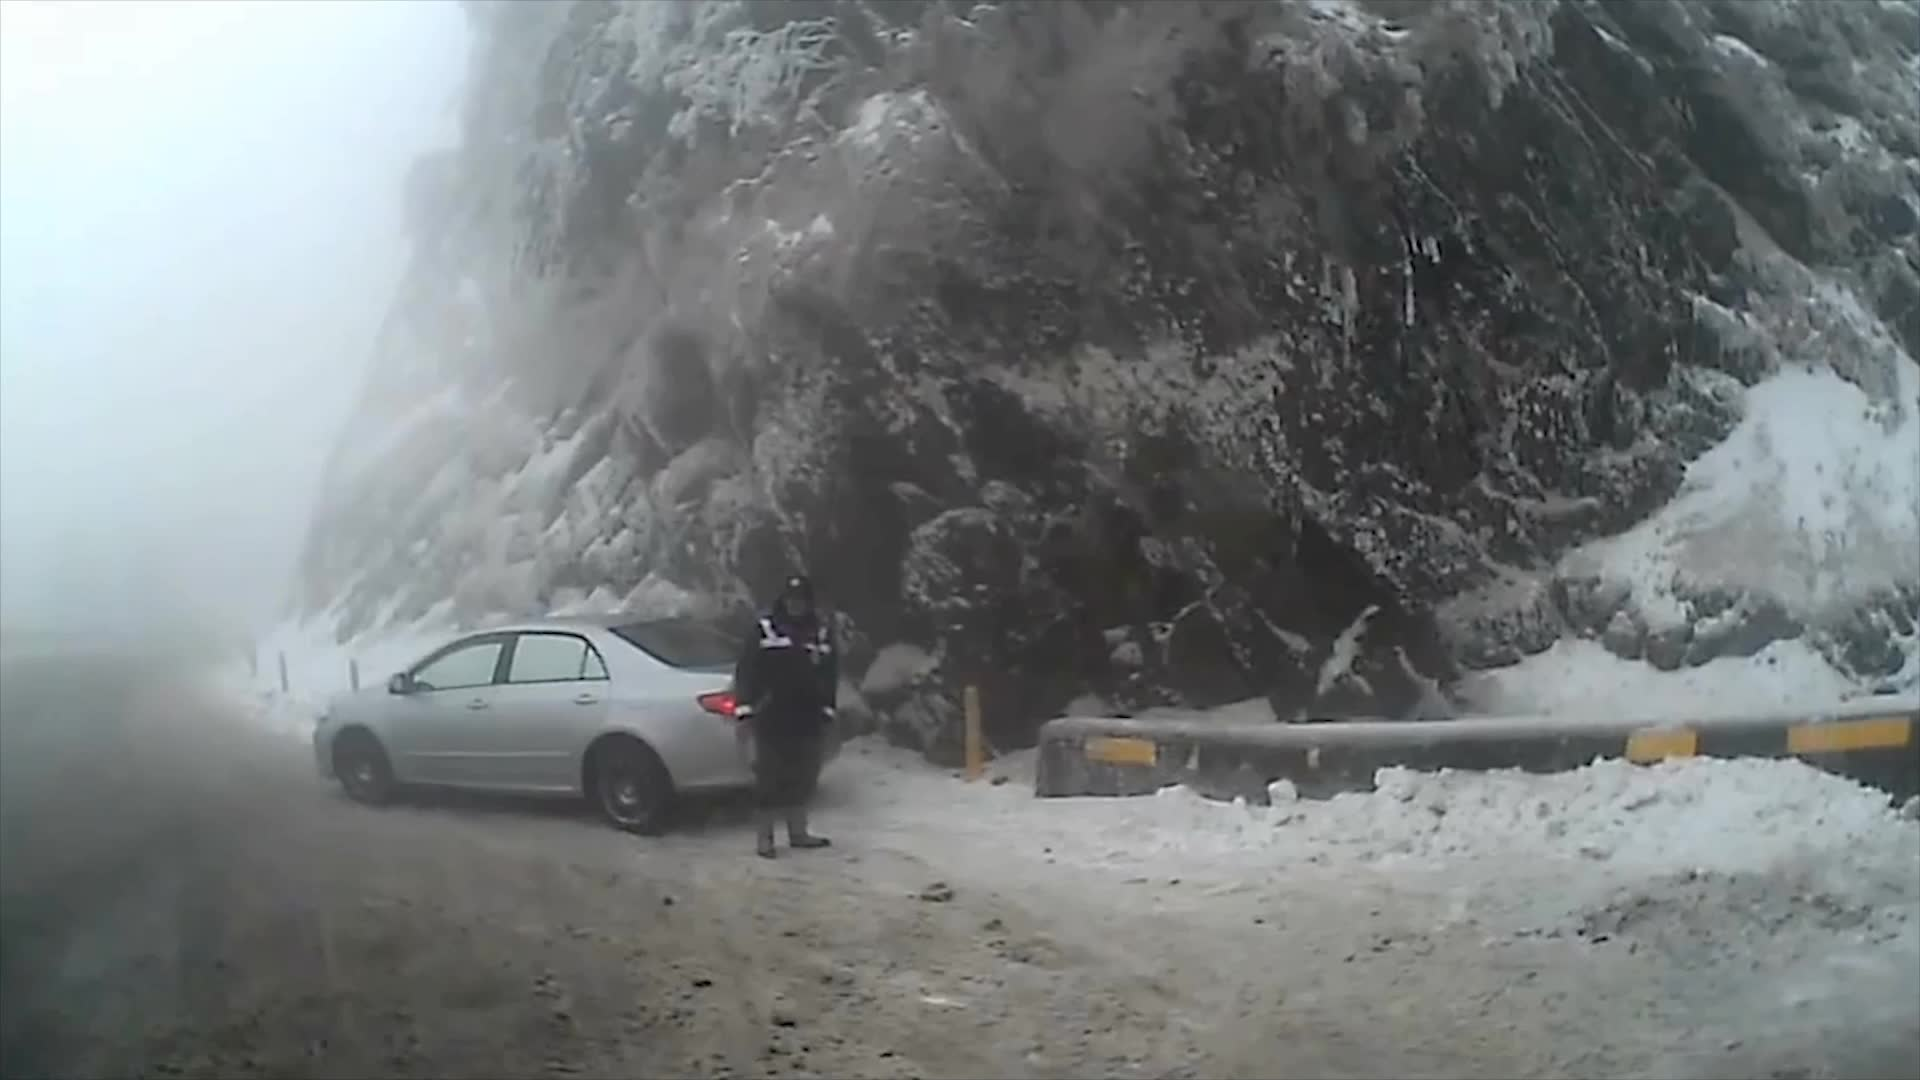pedestrian: (730, 579, 838, 865)
vehicle: (311, 610, 841, 839)
